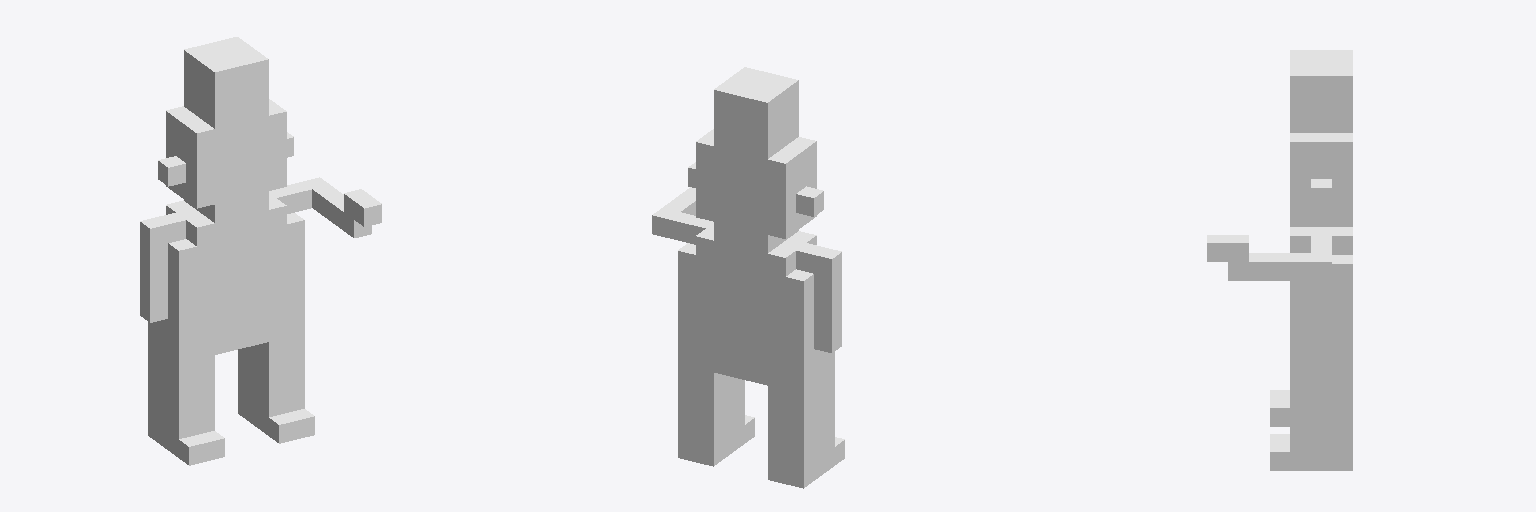
The model's file is Agent_Vanilla.obj.
3 views of the same model, side by side, from view 1: azimuth 30°, elevation 25°; view 2: azimuth 150°, elevation 25°; view 3: azimuth 270°, elevation 25° (orthographic).
Parts seen in each view (by area): view 1: object 1; view 2: object 1; view 3: object 1.
Part boxes in pixels (bbox=[...]): object 1: bbox=[140, 37, 381, 465]; object 1: bbox=[652, 67, 844, 488]; object 1: bbox=[1207, 50, 1352, 470].
Size of the model in its own units: 1 by 2 by 0.7.